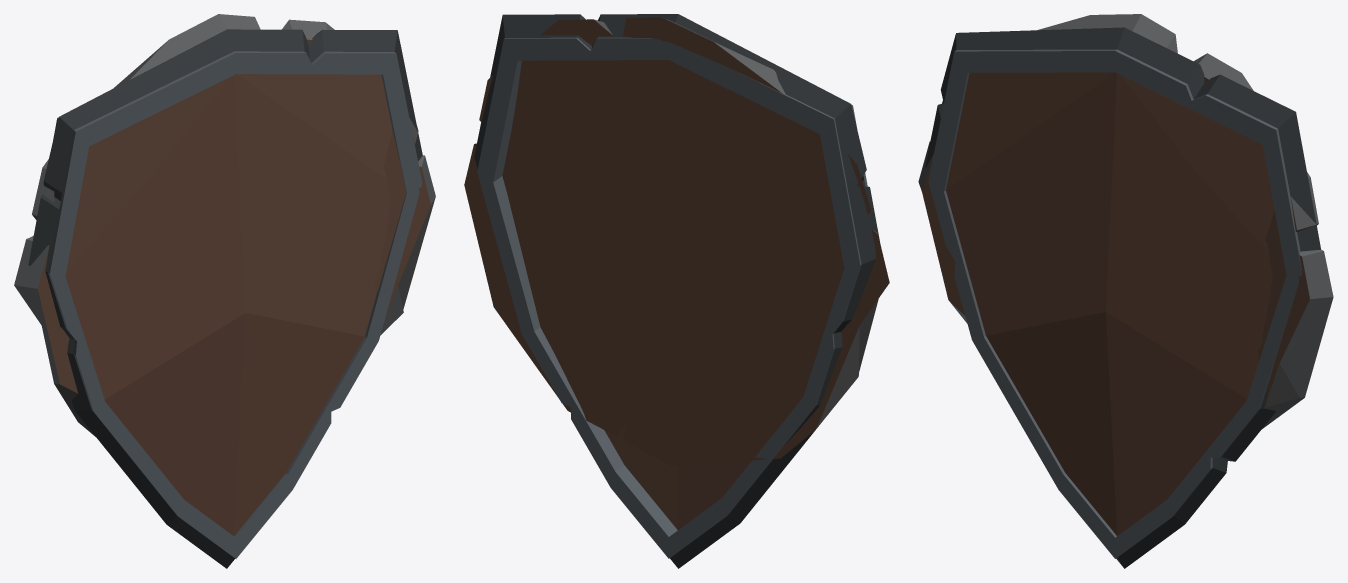
Rendered from Shield.gltf.
3 views of the same model, side by side, from view 1: azimuth 30°, elevation 25°; view 2: azimuth 150°, elevation 25°; view 3: azimuth 330°, elevation 25° (orthographic). The views are drawn at different scales.
Parts seen in each view (by area): view 1: shield 2, shield; view 2: shield, shield 2; view 3: shield 2, shield.
Boxes of the visible parts, <box> form: shield 2: <box>28,29,422,568</box>; shield: <box>14,14,435,436</box>; shield: <box>464,17,889,466</box>; shield 2: <box>474,14,879,568</box>; shield 2: <box>925,27,1320,568</box>; shield: <box>918,14,1333,428</box>.
Bounding box in the file's own units: 0.2891 × 0.3602 × 0.0374.
Materials: 2 (2 with a texture image).
